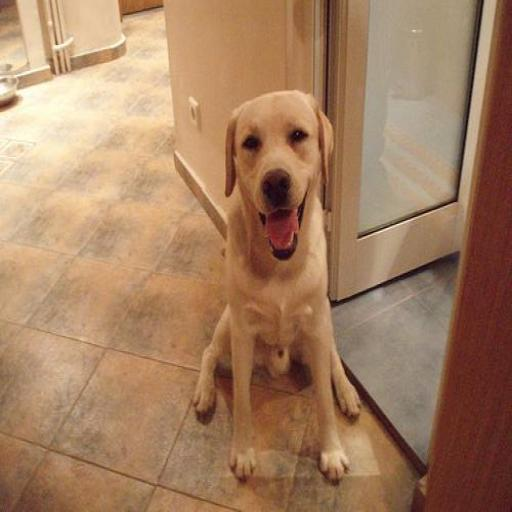dog_face: (222, 88, 330, 251)
